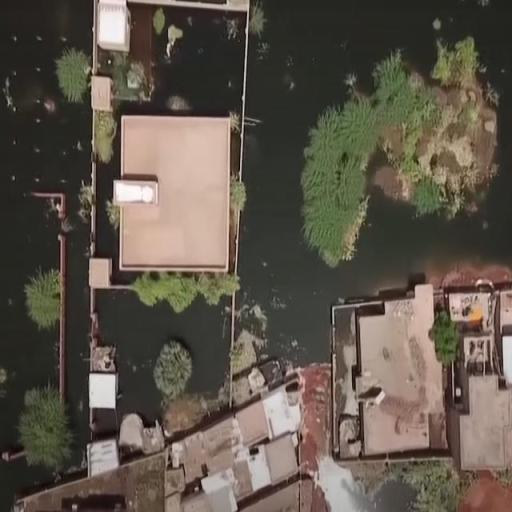flood: (239, 0, 512, 369), (300, 35, 498, 270), (0, 0, 92, 467), (95, 292, 230, 422), (119, 7, 247, 112), (318, 458, 417, 512), (0, 454, 54, 512), (93, 167, 118, 258)
house: (110, 114, 236, 286), (343, 285, 455, 469), (450, 268, 512, 476), (5, 440, 181, 512)
